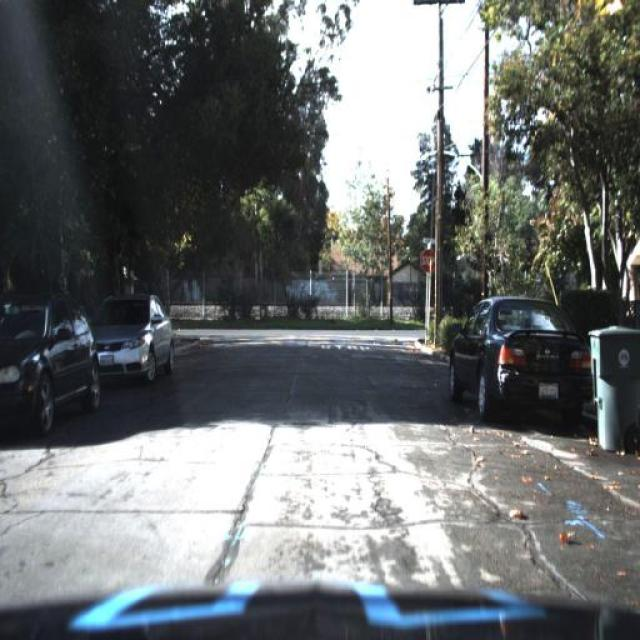car: (450, 292, 609, 438), (0, 292, 100, 446), (96, 290, 186, 400), (80, 291, 174, 391)
